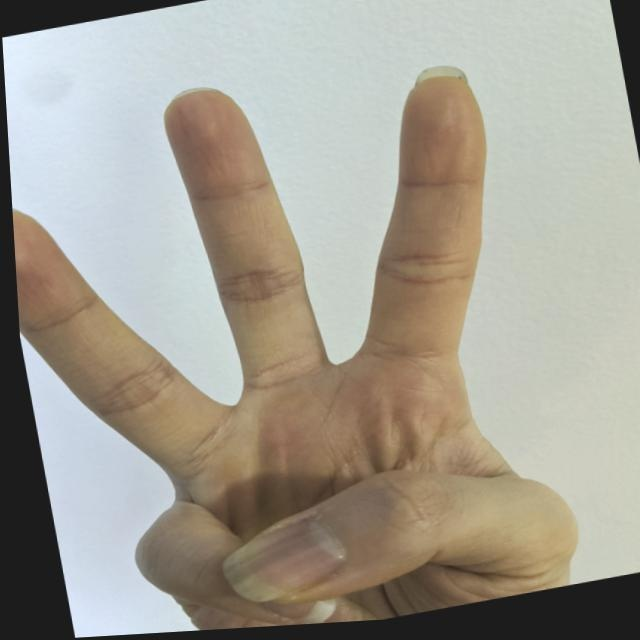W: (2, 27, 593, 639)
